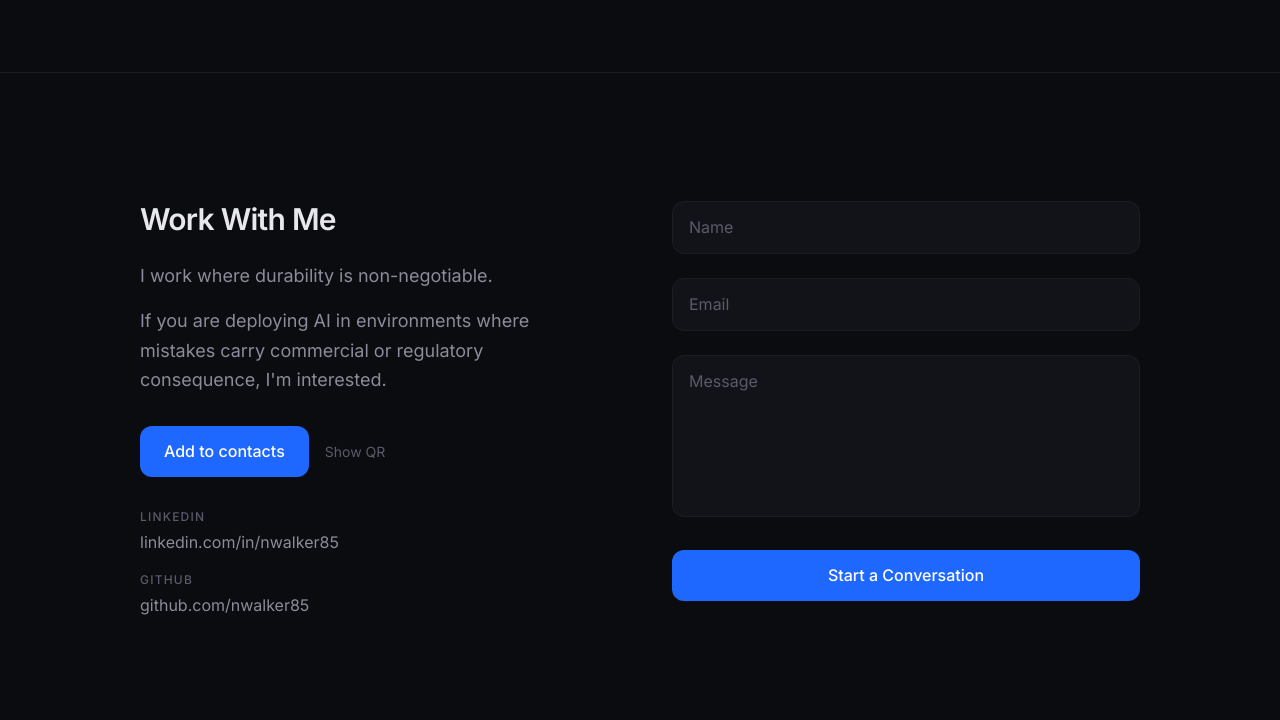
Test: ContactSection › stays on-page with an error after a failed intake attempt
Step 1. Type "Test User" into the field with placeholder "Name" → (906, 228), box [672, 201, 1140, 254]
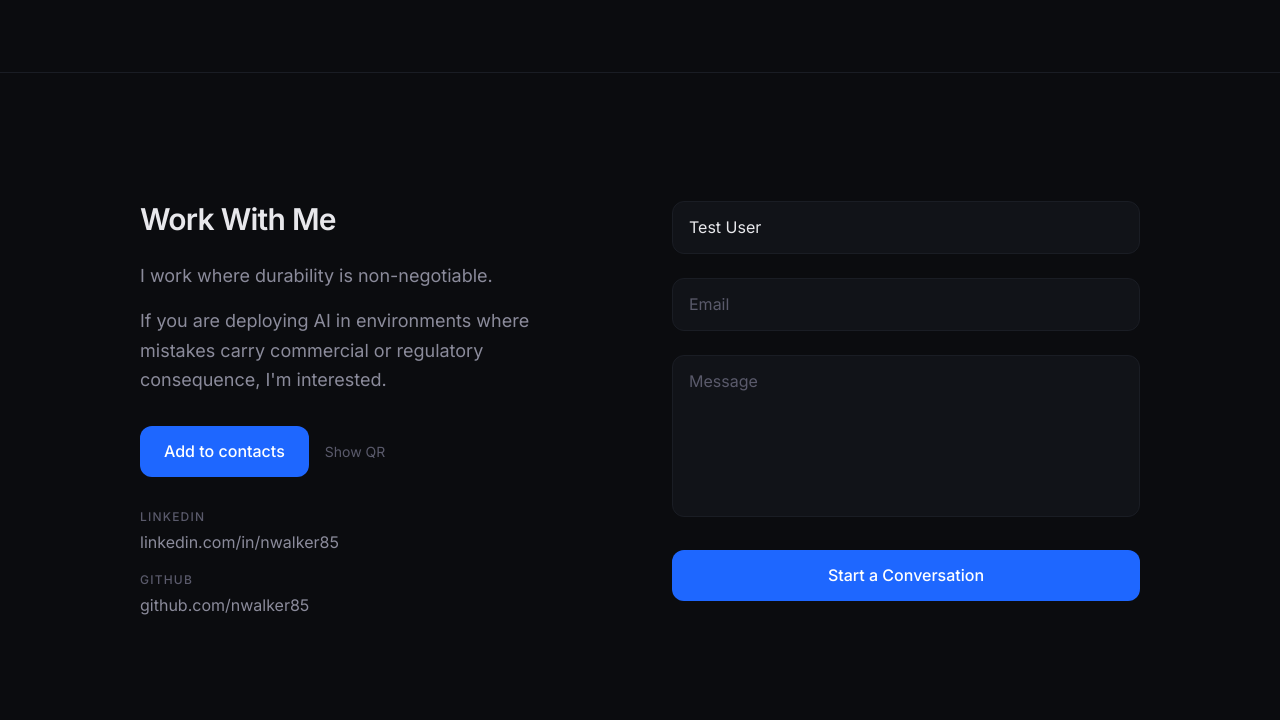
Step 2. Type "test@example.com" into the field with placeholder "Email" → (906, 305), box [672, 278, 1140, 331]
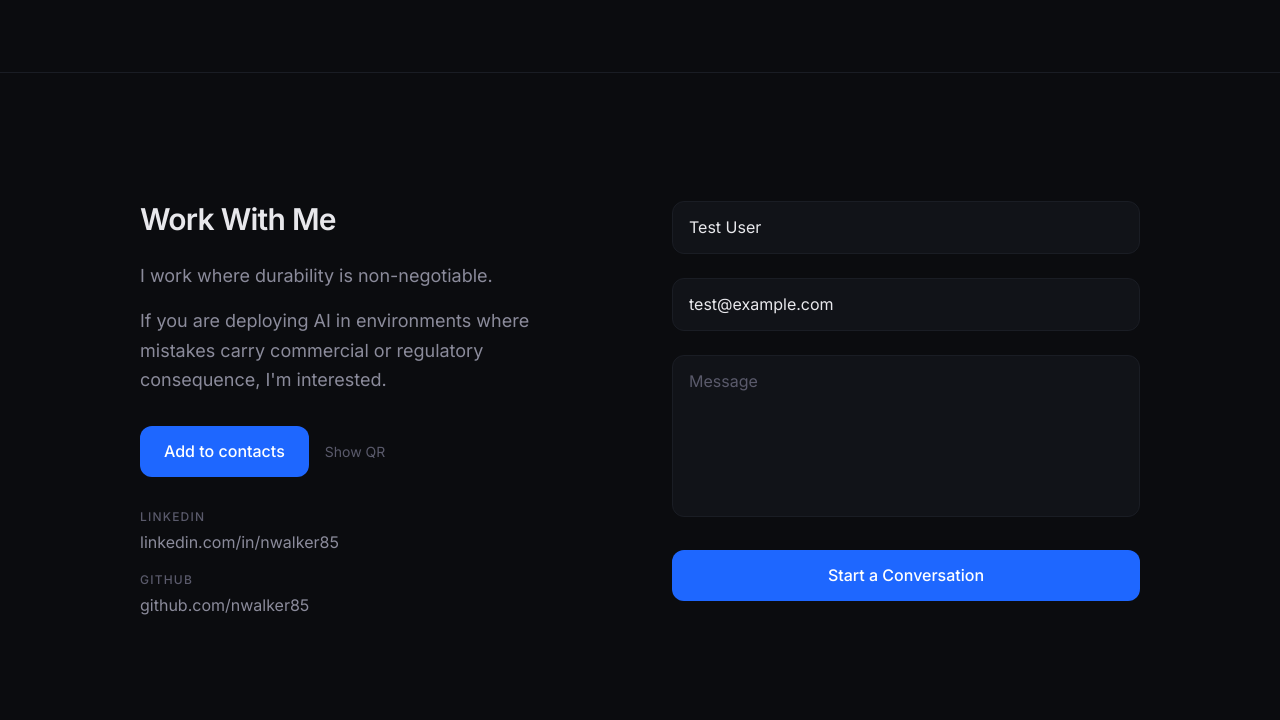
Step 3. Type "Hello" into the text box with placeholder "Message" → (906, 436), box [672, 355, 1140, 517]
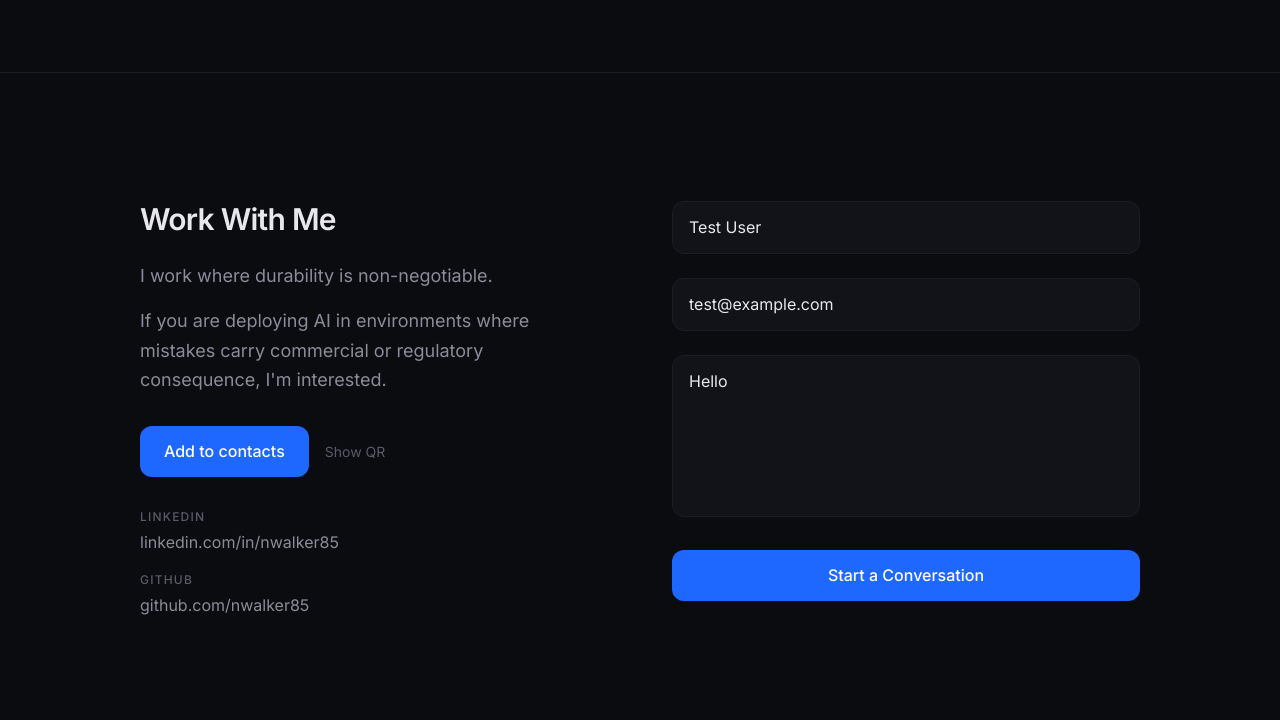
Step 4. Click the button "Start a Conversation" → (906, 575), box [672, 550, 1140, 601]
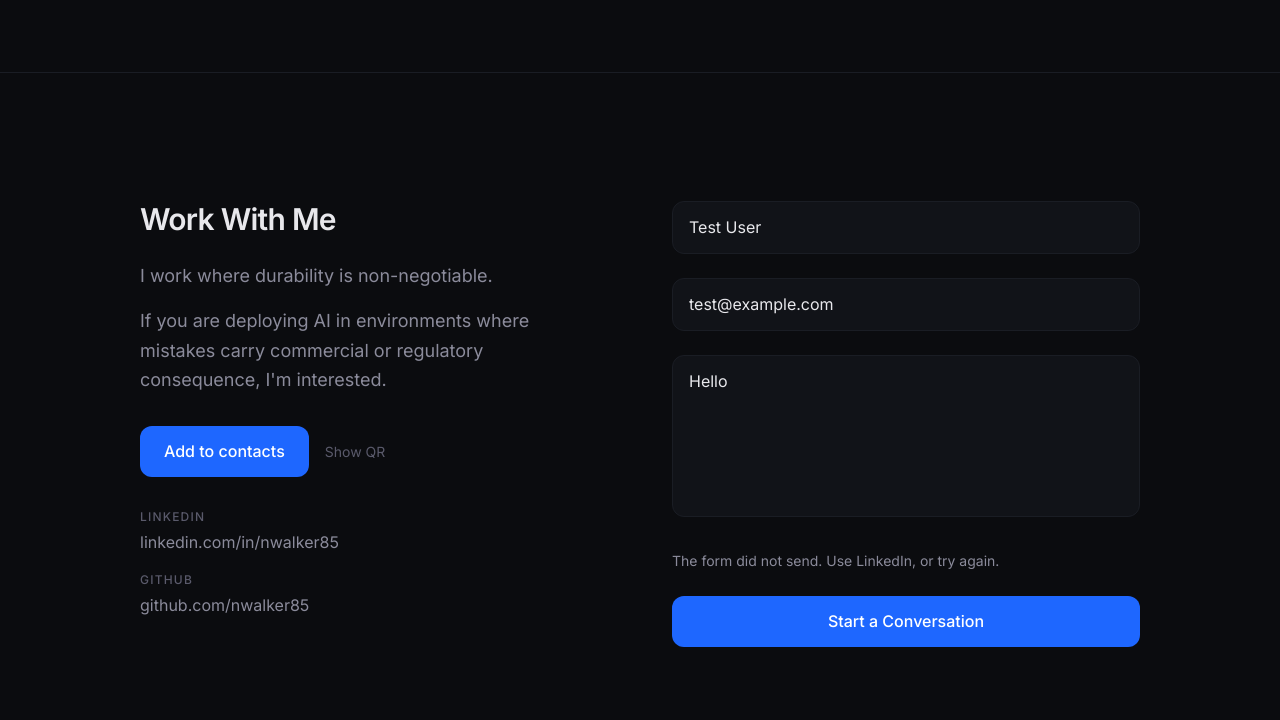
Check: the text "The form did not send. Use LinkedIn, or try again." is shown, box [672, 552, 999, 568]
